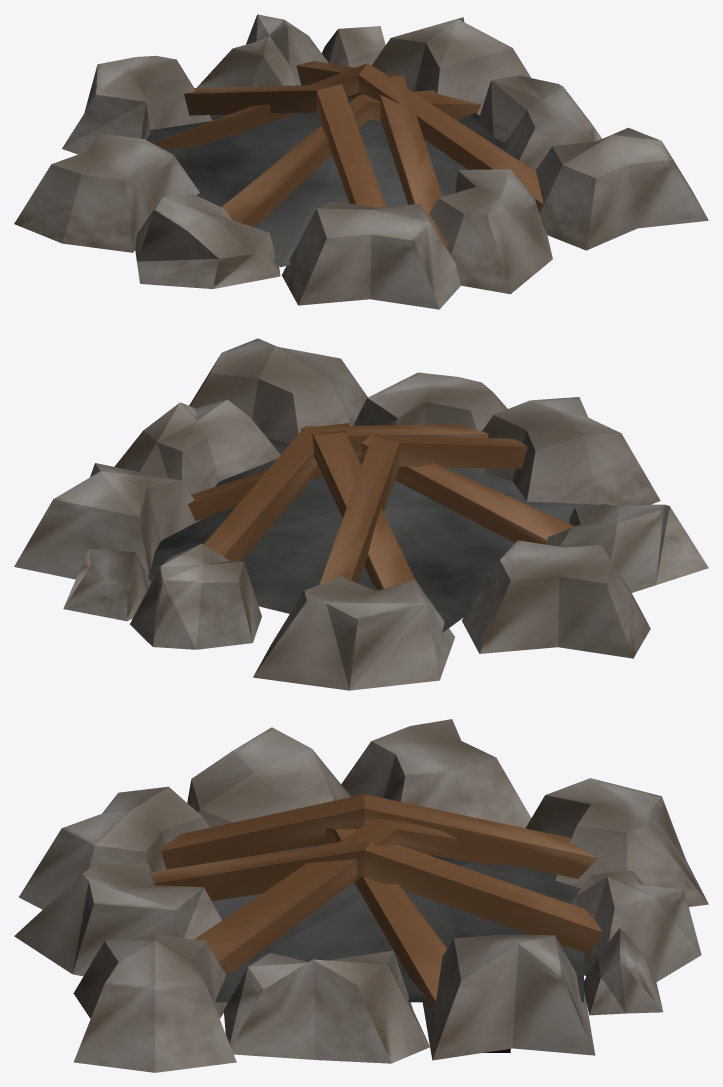
The model's file is Fogueira1.fbx.
3 renders of one model, top to bottom at view 1: azimuth 30°, elevation 25°; view 2: azimuth 150°, elevation 25°; view 3: azimuth 270°, elevation 25°, orthographic. The views are drawn at different scales.
Visible parts, largest first — view 1: Fogueira1; view 2: Fogueira1; view 3: Fogueira1.
Part boxes in pixels (x1,y1,x2,y2): Fogueira1: (14, 14, 708, 309); Fogueira1: (14, 338, 708, 690); Fogueira1: (14, 719, 708, 1072).
Bounding box in the file's own units: 188 × 38.51 × 180.
